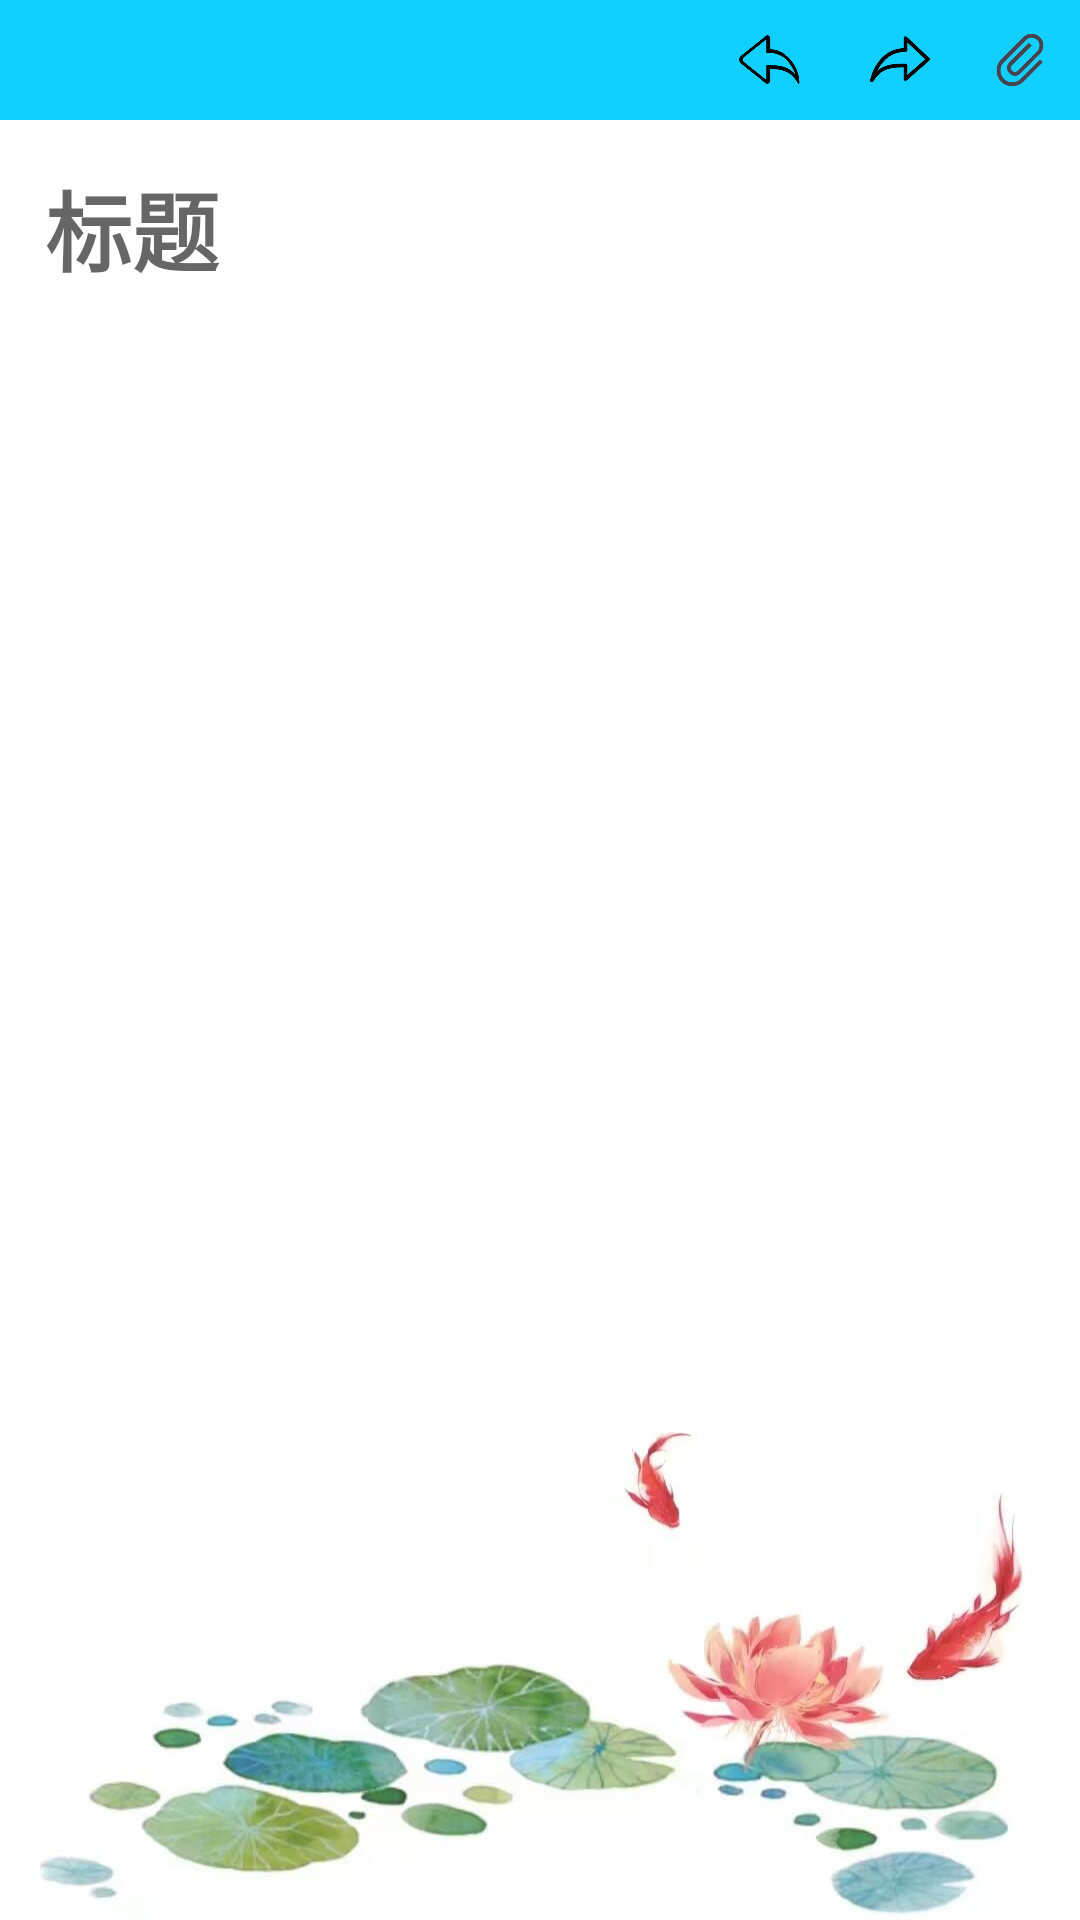

Locate icon controls on the screen. Image size 1080px×1920px, boxes as (x1, y1, x2, y2).
accessory: (996, 34, 1044, 86)
repeal left: (739, 35, 800, 84)
repeal right: (870, 36, 930, 82)
